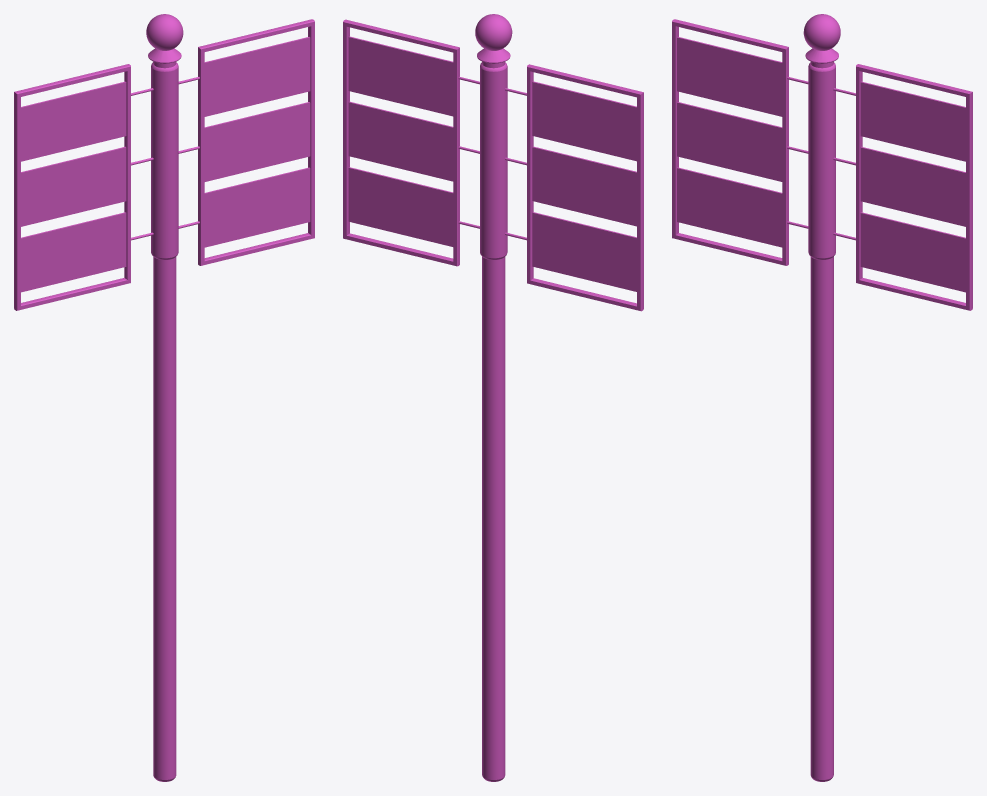
3 views of the same model, side by side, from view 1: azimuth 30°, elevation 25°; view 2: azimuth 150°, elevation 25°; view 3: azimuth 330°, elevation 25° (orthographic).
Size of the model in its own units: 130 by 317 by 14.
